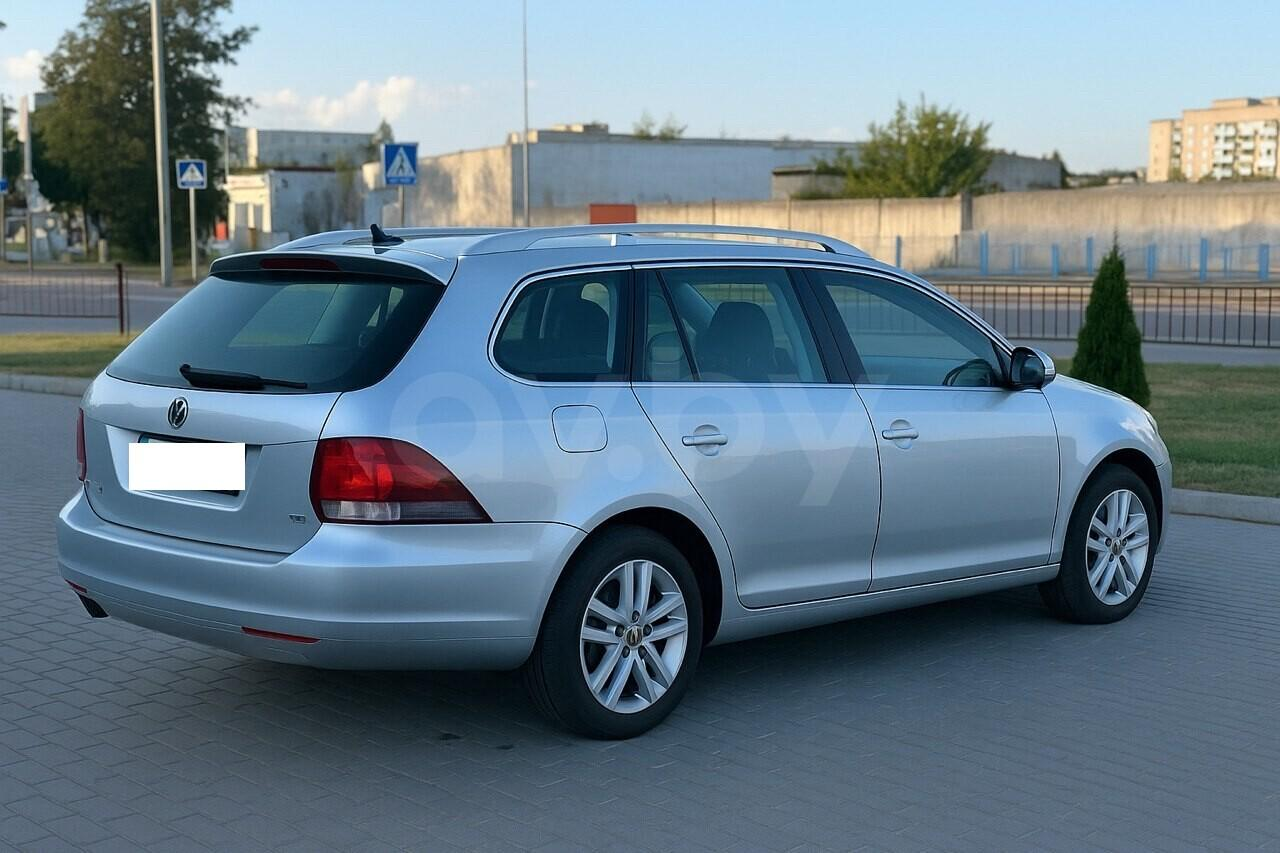Golf_2008-2013: (52, 222, 1183, 743)
